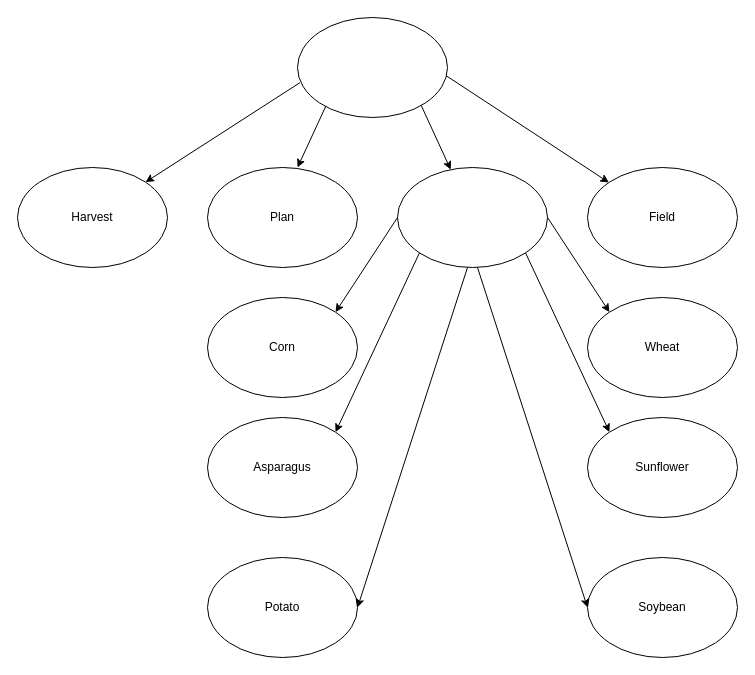
Some shapes in this 755 by 675 pixel diagram are drawn without their labels. The shapes that lost their labels are listed below. From the top down, each one's centre as x and y in pixels, then its label:
At [372,67]: "Main".
At [472,217]: "Tractor".
